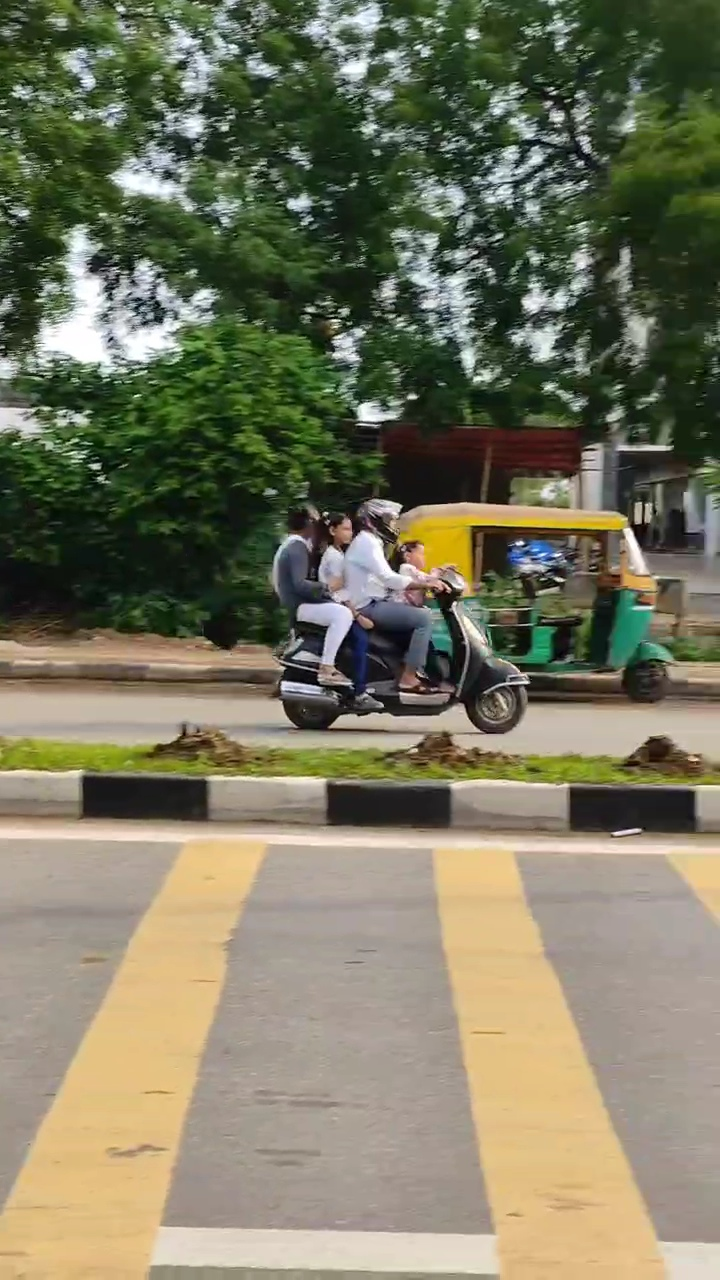BikeWithRider: (231, 475, 545, 747)
Helmet: (354, 495, 408, 545)
NoHelmet: (314, 508, 359, 551), (282, 498, 321, 537), (393, 538, 432, 572)
